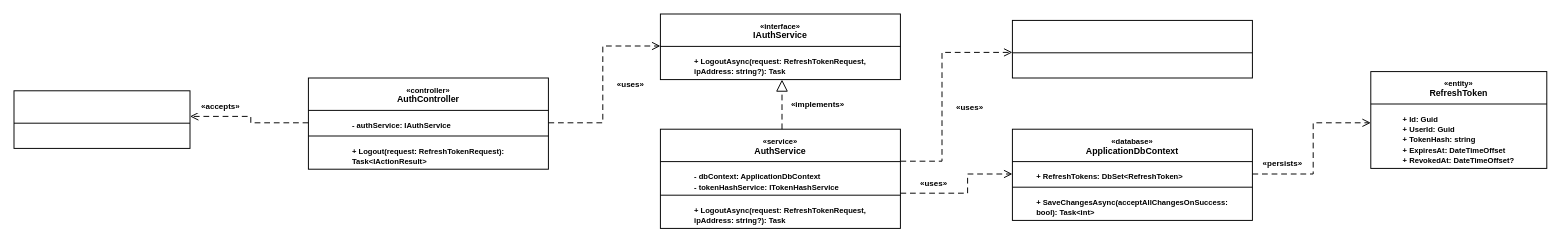
Some shapes in this 1562 by 246 pixel diagram are drawn without their labels. The centre of each missing label's shape, as x and y in pixels:
«interface» ITokenHashService + HashToken(token: string): string: pixel 1132 49
«request» RefreshTokenRequest + RefreshToken: string: pixel 101 119
